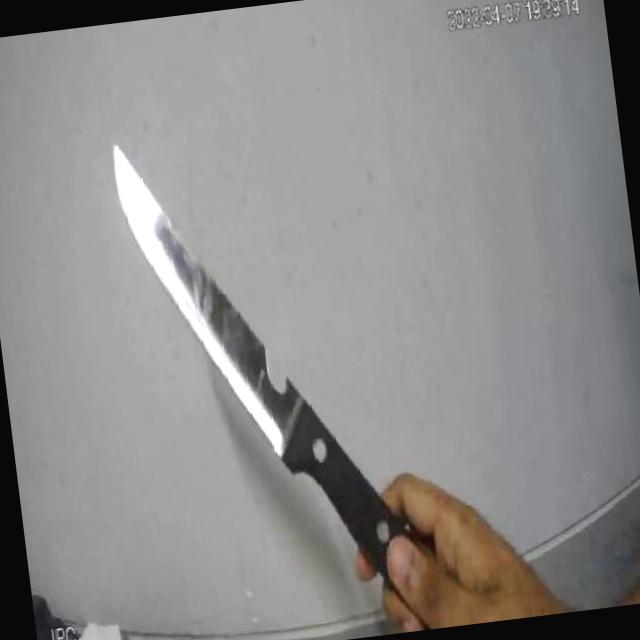knife: (96, 86, 447, 640)
